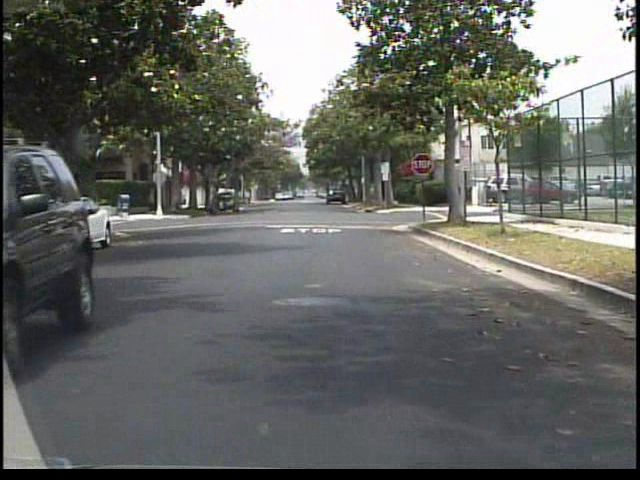person: (207, 177, 230, 219)
